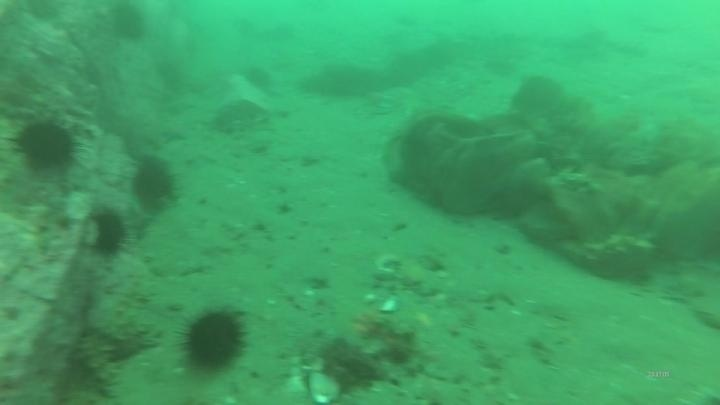echinus: (176, 305, 251, 376), (11, 115, 81, 176), (129, 154, 179, 213), (88, 207, 131, 259), (106, 3, 149, 45), (241, 63, 276, 95)
holothurian: (74, 327, 123, 400), (109, 270, 152, 339), (583, 233, 667, 267), (557, 164, 607, 196)
